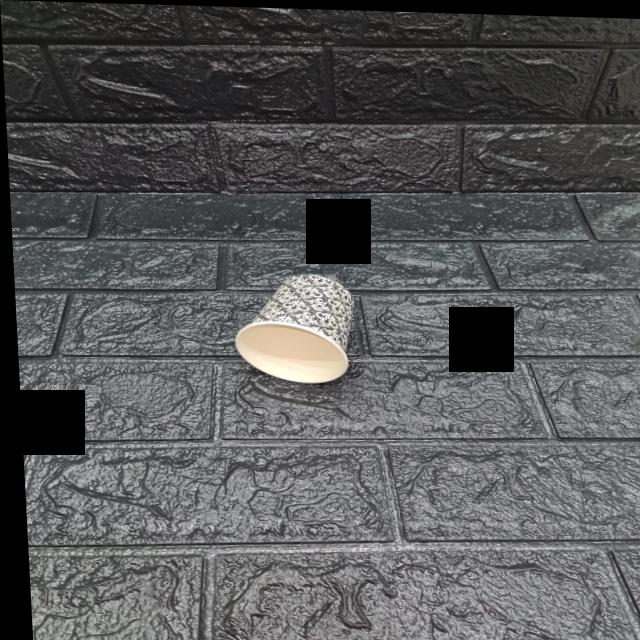cups: (219, 268, 362, 387)
